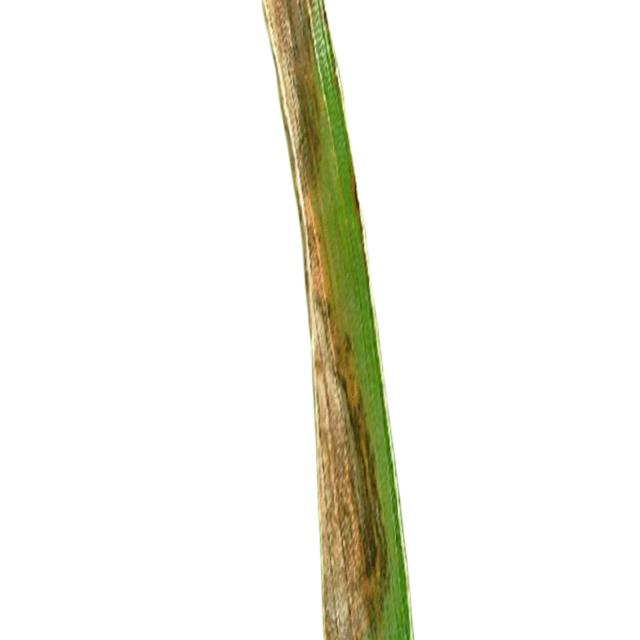Leaf scald: (234, 0, 458, 640)
